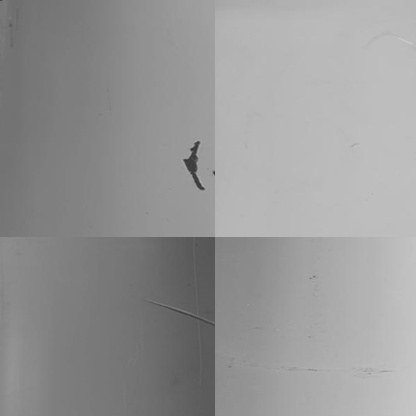kongdong: (178, 142, 208, 191)
sunshang: (144, 294, 216, 327)
